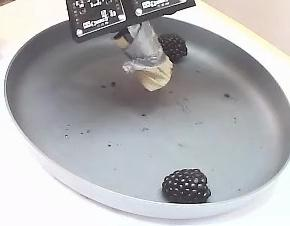berry: (162, 169, 210, 203), (158, 34, 187, 63)
